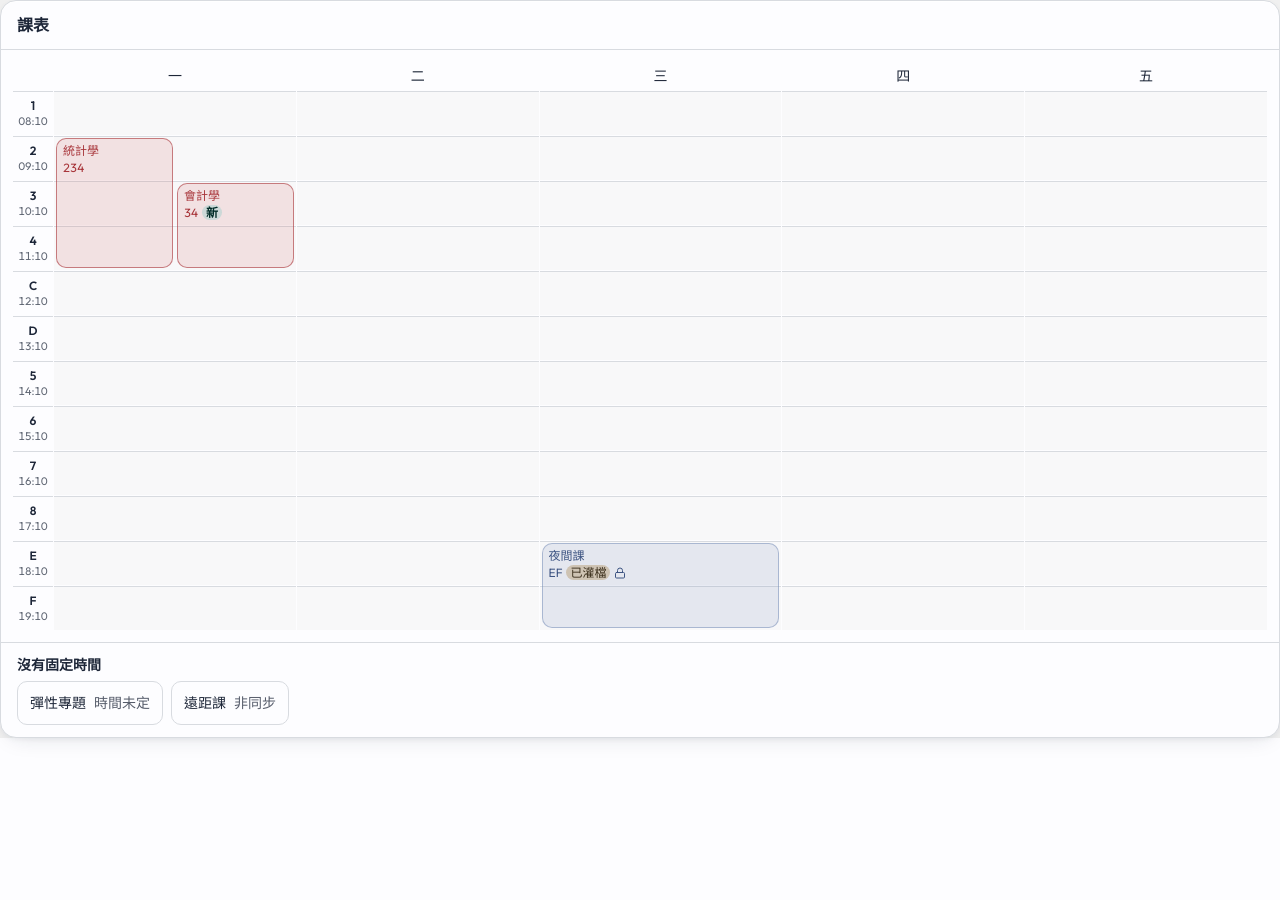
Scenario: course actions › a locked course cannot be removed and says why
This screenshot has width=1280, height=900.
Click the button "夜間課 EF 已灌檔". click: (660, 586)
box: left=542, top=543, right=779, bottom=628
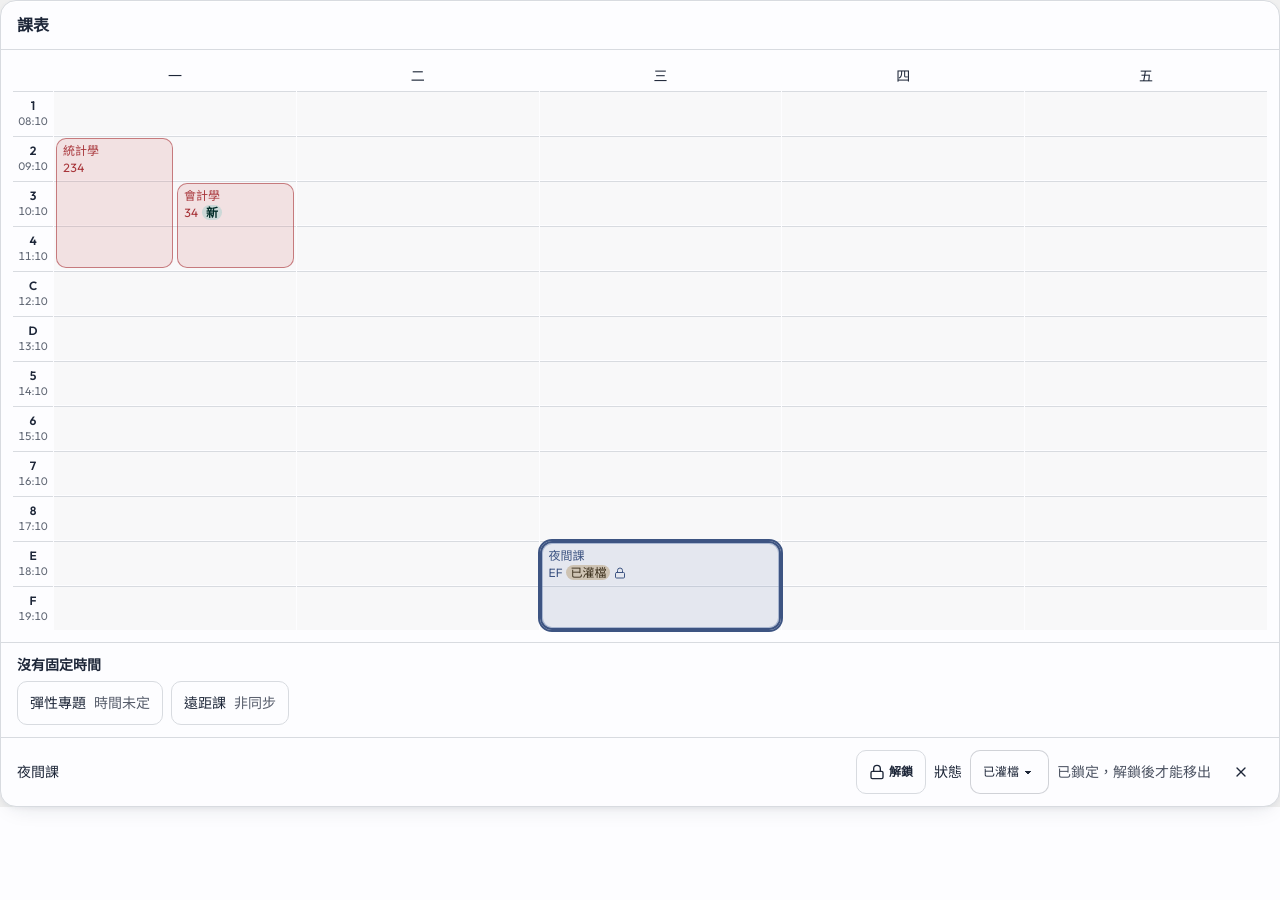
Expected: the element named "夜間課 的操作" shows "已鎖定，解鎖後才能移出", left=1057, top=763, right=1211, bottom=781
